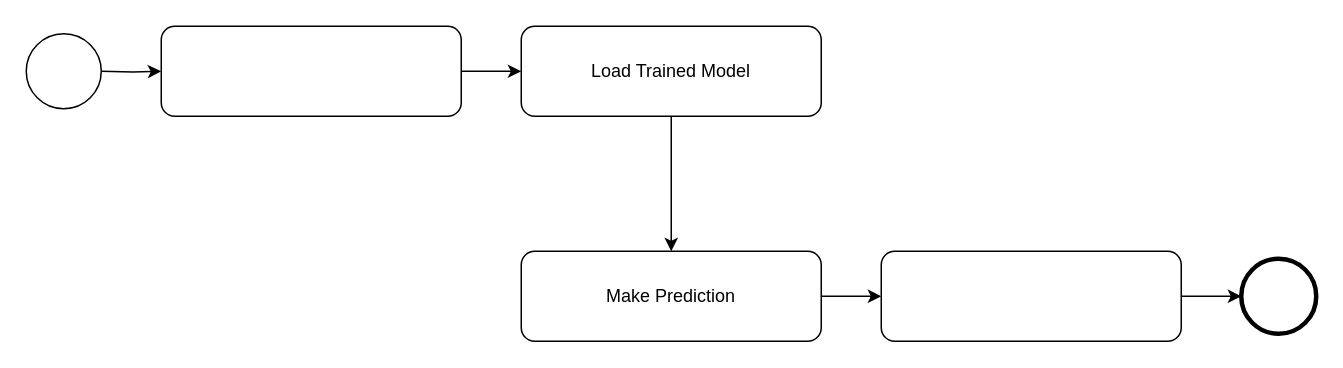
This 1343x368 diagram has some shape labels left out. The shapes that lost their labels are listed below. From the top down, each one's box as (x1, y1, x2, y2) in pixels, then its label:
(160, 25, 461, 116): Preprocess Input Image
(880, 250, 1181, 341): Format Prediction Results
